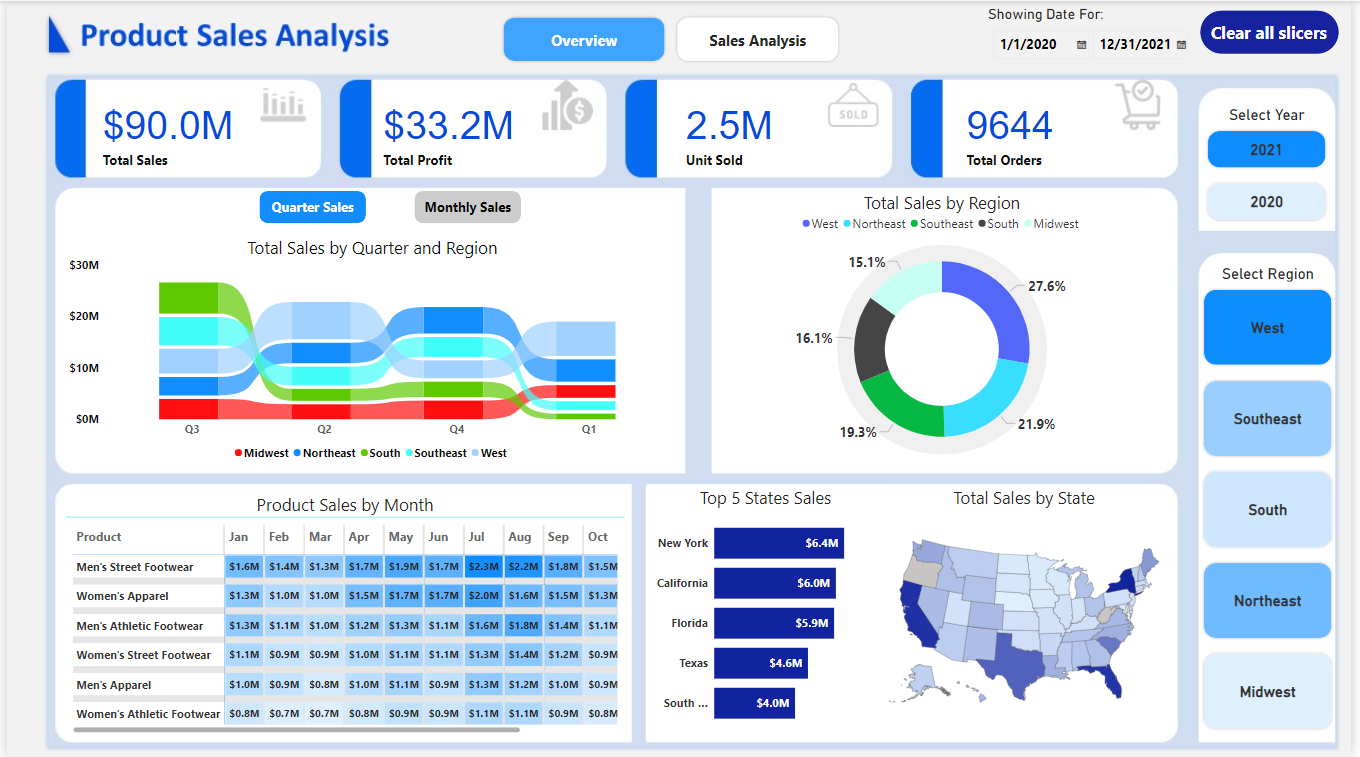

This screenshot's page, from the dashboard's own definition file:
{"tool":"powerbi","page":{"name":"Overview","canvas":[1920,1080],"ordinal":0},"visuals":[{"type":"shape","box":[1186,348,300,300],"z":0,"group":"g1"},{"type":"cardVisual","fields":{"Data":["_Measure.Total Sales","_Measure.Total Profit","_Measure.Unit Sold","_Measure.Total Orders"]},"box":[28,128,1608,126],"z":0},{"type":"shape","box":[1254,416,164,164],"z":1000,"group":"g1"},{"type":"ribbonChart","fields":{"Category":["dim_Calendar.Quarter"],"Y":["_Measure.Total Sales"],"Series":["dim_Region.Region"]},"box":[84,336,876,330],"z":1000},{"type":"actionButton","title":"Month disable","box":[582,272,152,46],"z":3000},{"type":"actionButton","title":"quarter enable","box":[360,272,152,46],"z":5000},{"type":"pivotTable","title":"Product Sales by Month","fields":{"Rows":["dim_Product.Product"],"Columns":["dim_Calendar.Month Name"],"Values":["_Measure.Total Sales"]},"box":[84,692,798,362],"z":7000},{"type":"group","id":"g1","title":"shape under dount","box":[1186,348,300,300],"z":8000},{"type":"donutChart","fields":{"Category":["dim_Region.Region"],"Y":["_Measure.Total Sales"]},"box":[1020,272,632,394],"z":9000},{"type":"clusteredBarChart","title":"Top 5 States Sales ","fields":{"Y":["_Measure.Total Sales"],"Category":["dim_Region.State"]},"box":[912,692,342,362],"z":10000},{"type":"shapeMap","fields":{"Category":["dim_Region.State"],"Value":["_Measure.Total Sales"]},"box":[1234,692,438,362],"z":11000},{"type":"advancedSlicerVisual","title":"Select Region","fields":{"Values":["dim_Region.Region"]},"box":[1698,376,206,678],"z":12000},{"type":"advancedSlicerVisual","title":"Select Year","fields":{"Values":["dim_Calendar.Year"]},"box":[1704,150,192,176],"z":13000},{"type":"actionButton","box":[1704,12,200,64],"z":14000},{"type":"slicer","title":"Showing Date For: ","fields":{"Values":["dim_Calendar.Date"]},"box":[1396,8,300,82],"z":15000},{"type":"pageNavigator","box":[706,20,486,70],"z":16000}]}

Visuals, with their boxes in screenshot pixels (x1, y1, x2, y2), scaled from the page's 1920x1080 canvas onto the 1360x757 screenshot:
shape: {"left": 840, "top": 244, "right": 1053, "bottom": 454}
cardVisual - _Measure.Total Sales x _Measure.Total Profit: {"left": 20, "top": 90, "right": 1159, "bottom": 178}
shape: {"left": 888, "top": 292, "right": 1004, "bottom": 407}
ribbonChart - dim_Calendar.Quarter x _Measure.Total Sales: {"left": 60, "top": 236, "right": 680, "bottom": 467}
"Month disable" actionButton: {"left": 412, "top": 191, "right": 520, "bottom": 223}
"quarter enable" actionButton: {"left": 255, "top": 191, "right": 363, "bottom": 223}
"Product Sales by Month" pivotTable: {"left": 60, "top": 485, "right": 625, "bottom": 739}
"shape under dount" group: {"left": 840, "top": 244, "right": 1053, "bottom": 454}
donutChart - dim_Region.Region x _Measure.Total Sales: {"left": 722, "top": 191, "right": 1170, "bottom": 467}
"Top 5 States Sales " clusteredBarChart: {"left": 646, "top": 485, "right": 888, "bottom": 739}
shapeMap - dim_Region.State x _Measure.Total Sales: {"left": 874, "top": 485, "right": 1184, "bottom": 739}
"Select Region" advancedSlicerVisual: {"left": 1203, "top": 264, "right": 1349, "bottom": 739}
"Select Year" advancedSlicerVisual: {"left": 1207, "top": 105, "right": 1343, "bottom": 229}
actionButton: {"left": 1207, "top": 8, "right": 1349, "bottom": 53}
"Showing Date For: " slicer: {"left": 989, "top": 6, "right": 1201, "bottom": 63}
pageNavigator: {"left": 500, "top": 14, "right": 844, "bottom": 63}
